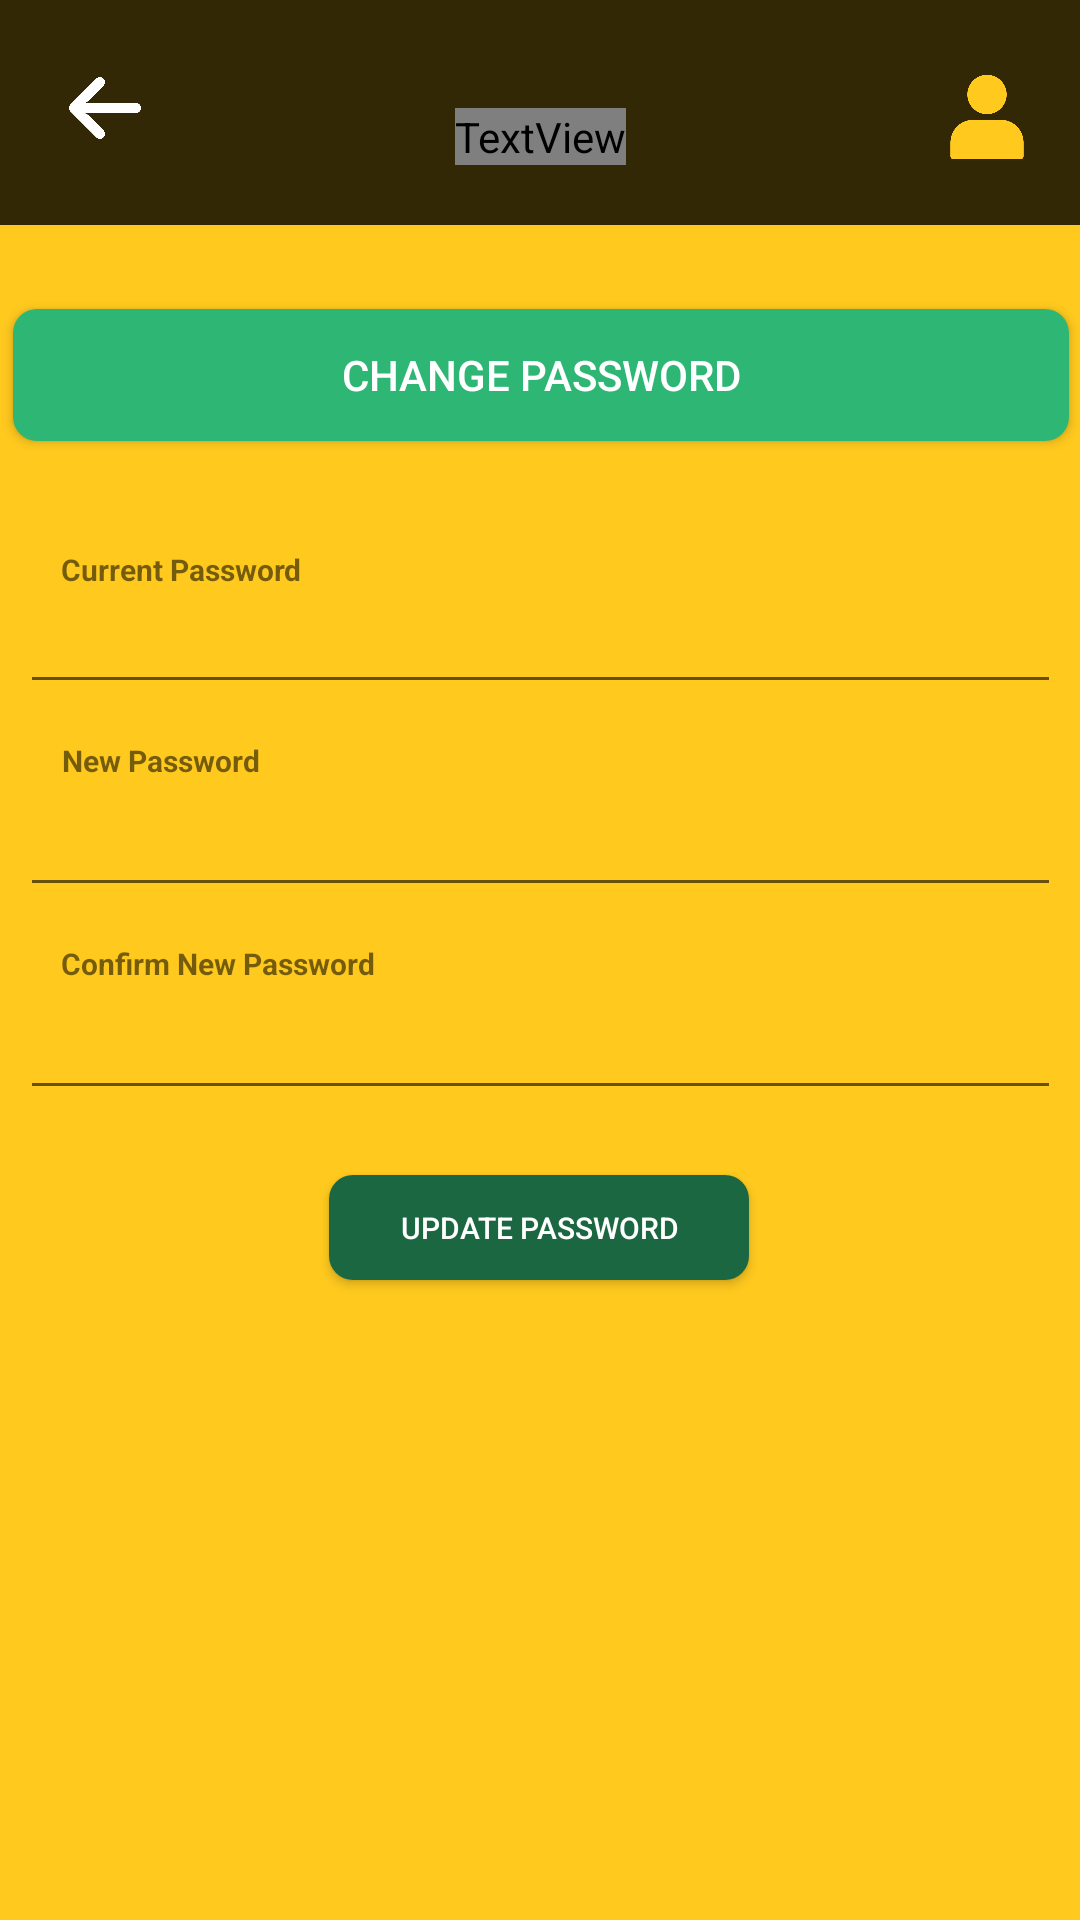

Screen size 1080 x 1920. Icon name, then its box in pixels as (x1, y1, x2, y2):
account: (950, 75, 1024, 159)
arrow back: (69, 77, 141, 139)
